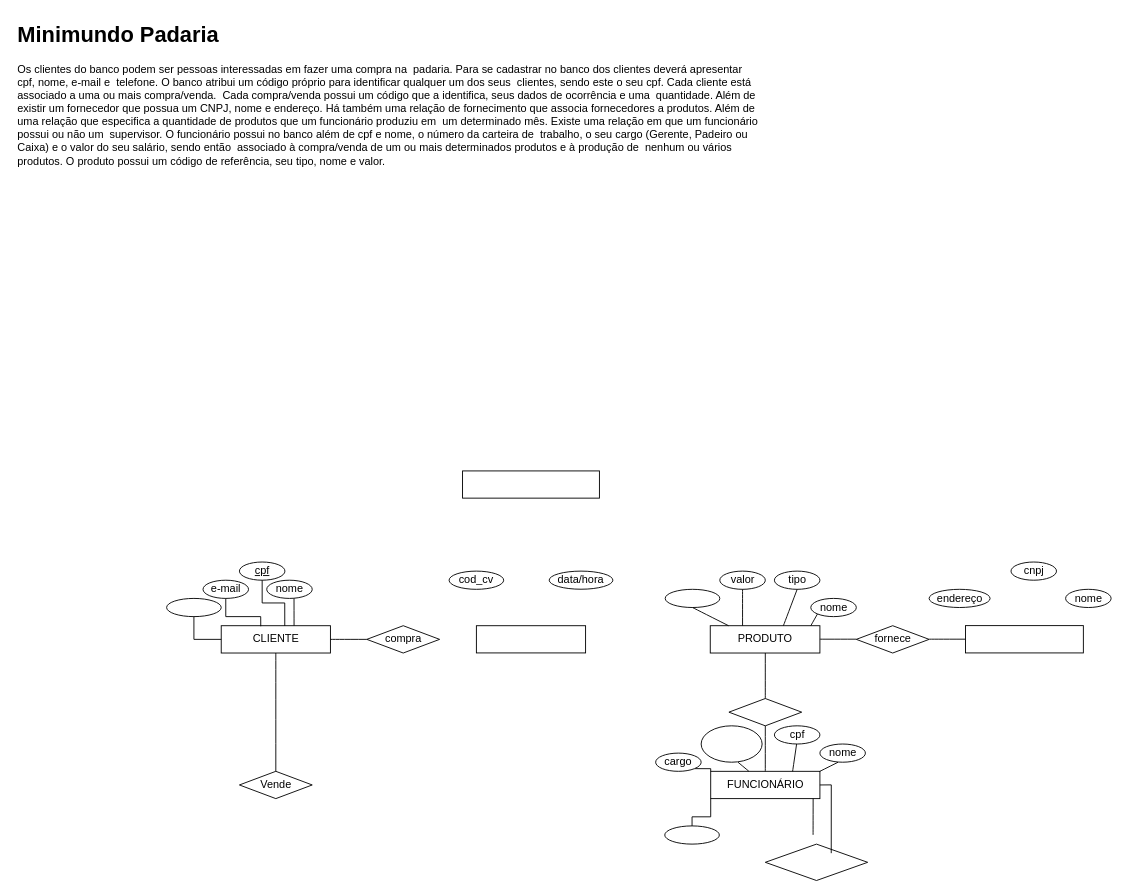
Some shapes in this 1127 by 896 pixel diagram are drawn without their labels. The centre of each missing label's shape, as x and y in pixels:
"cod_func" belongs at point 691,834.
"cod_pdt" belongs at point 692,598.
"COMPRA/VENDA" belongs at point 530,639.
"FORNECEDOR" belongs at point 1024,639.
"ITENS_COMPRA_VENDA" belongs at point 530,484.
"nº cart. trabalho" belongs at point 731,743.
"produz" belongs at point 765,712.
"SUPERVISIONA" belongs at point 816,862.
"telefone" belongs at point 193,607.
